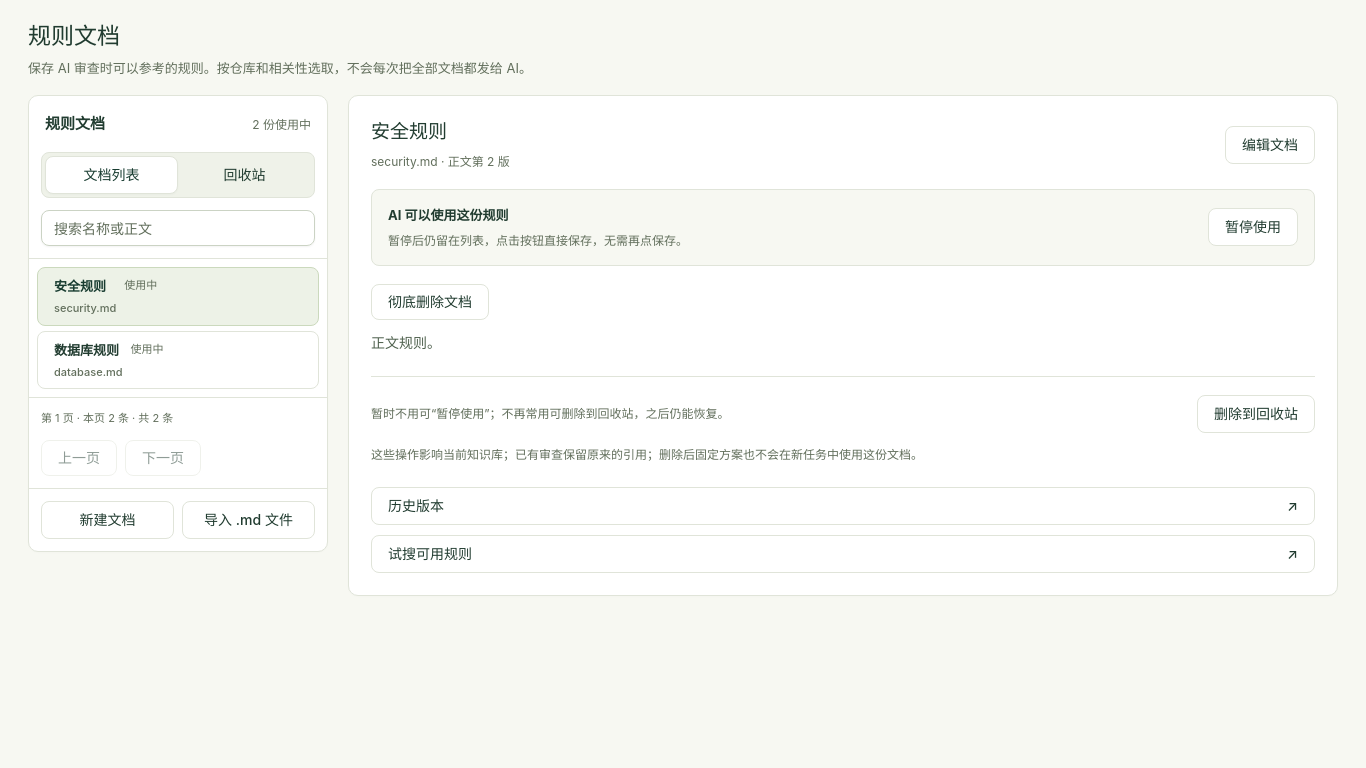
Scenario: 暂停和开启直接保存，日常操作不需要找额外保存按钮
Check: the button "删除到回收站" is enabled, box [1197,395,1315,433]
Click the button "暂停使用". click: click(1253, 227)
box: [1208,208,1298,246]
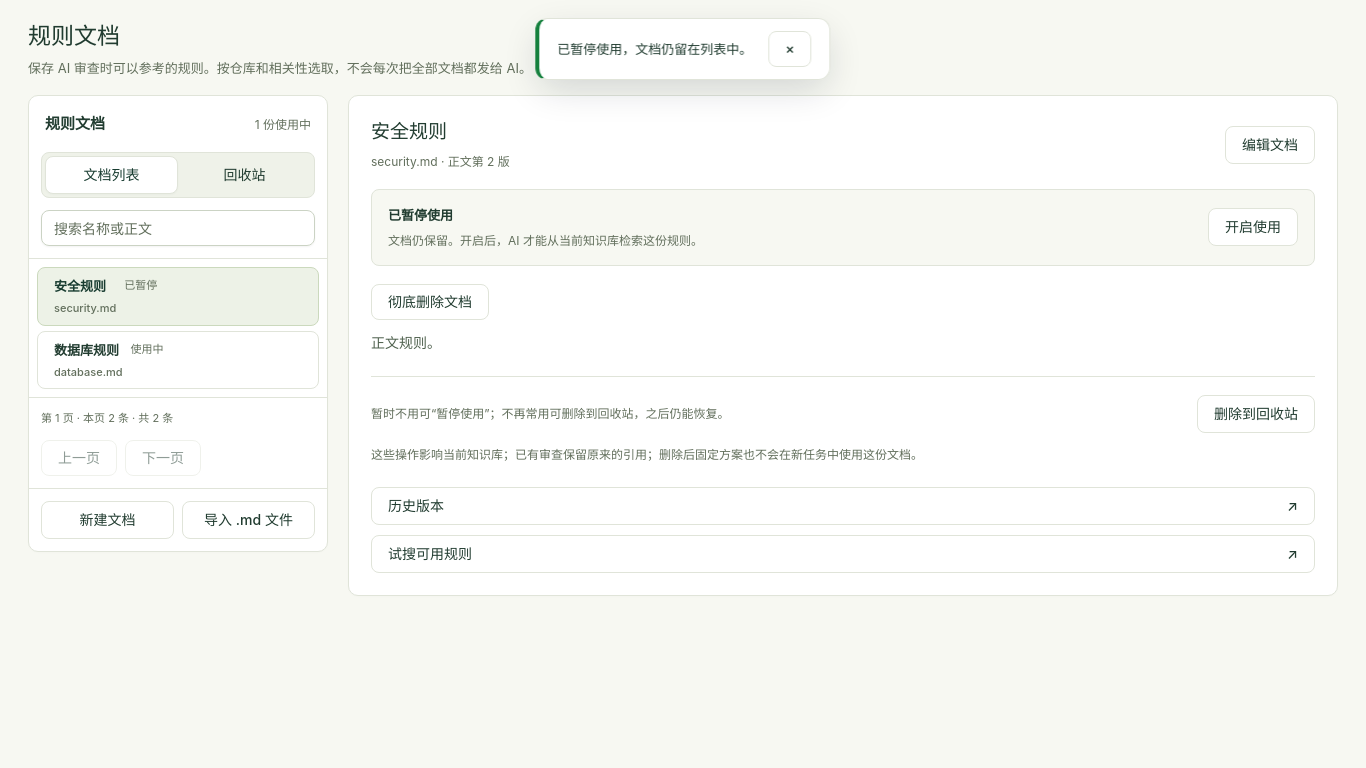
Click the button "开启使用". click: click(1253, 227)
box: [1208,208,1298,246]
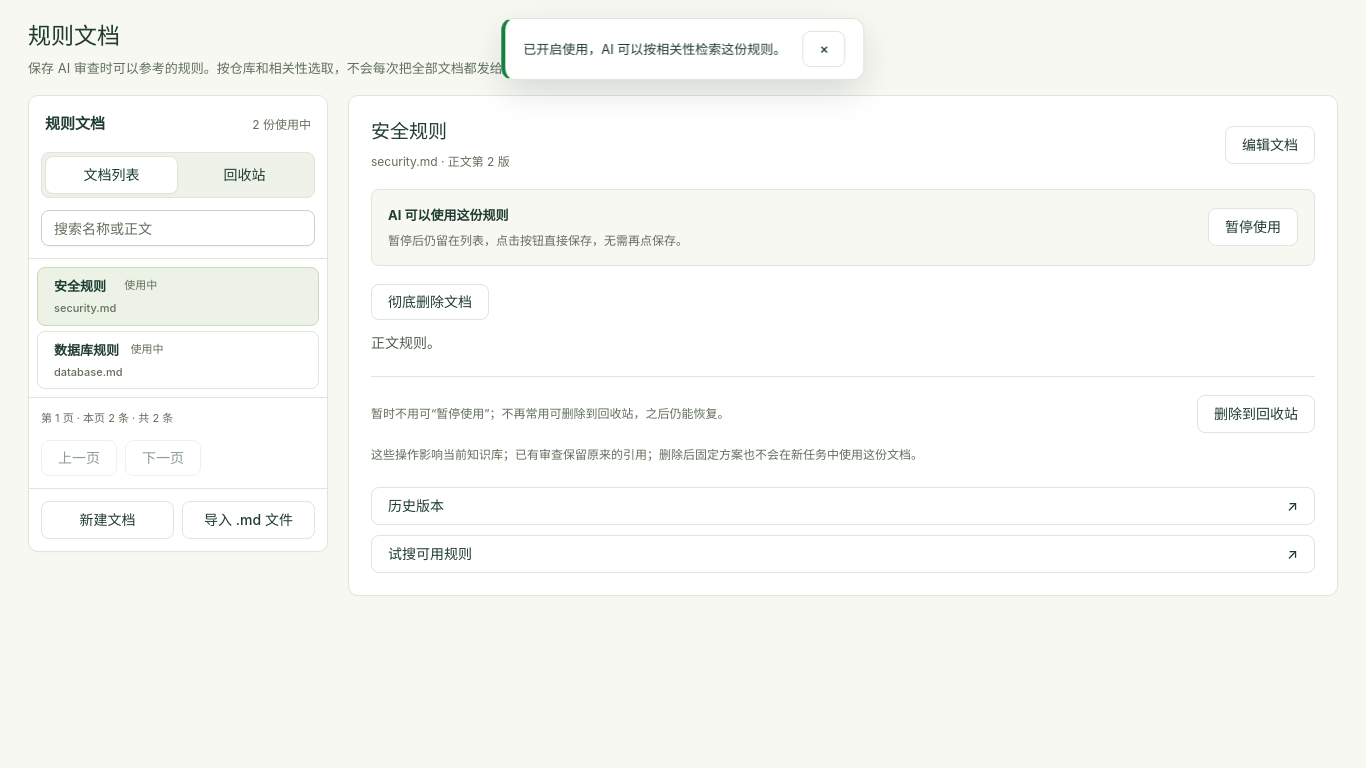
Check: the text "已开启使用，AI 可以按相关性检索这份规则。" is shown, box [523,38,786,60]
